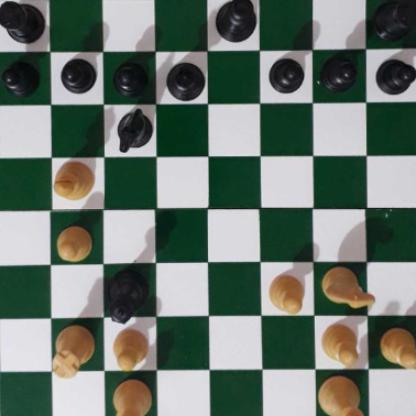black-bishop: (163, 62, 206, 102)
black-king: (212, 0, 258, 43)
black-knight: (113, 106, 153, 153)
black-pawn: (375, 55, 415, 95), (59, 56, 95, 94), (112, 58, 147, 96), (1, 58, 37, 94), (321, 53, 357, 89), (269, 54, 304, 91)
black-queen: (107, 266, 150, 326)
black-rook: (0, 0, 45, 43), (372, 0, 416, 40)
white-bishop: (52, 160, 95, 200), (112, 379, 154, 416)
white-king: (316, 373, 371, 416)
white-knight: (318, 264, 375, 308)
white-pawn: (319, 320, 361, 365), (110, 327, 149, 371), (267, 272, 307, 314), (379, 326, 416, 366), (55, 225, 94, 262)
white-rook: (52, 324, 92, 376)
